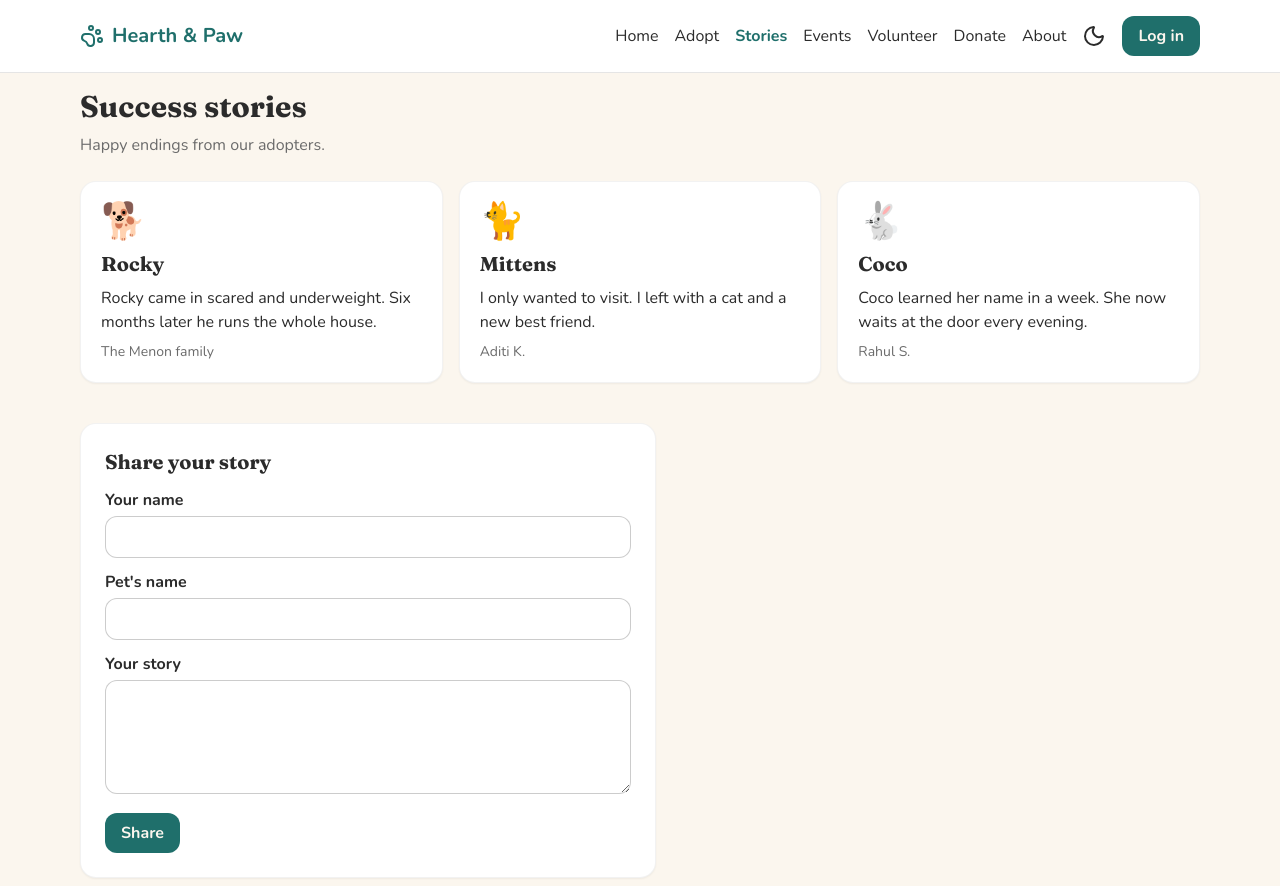
Test: story form validates
Click the button "Share". click: (142, 833)
box: x1=105 y1=813 x2=180 y2=853
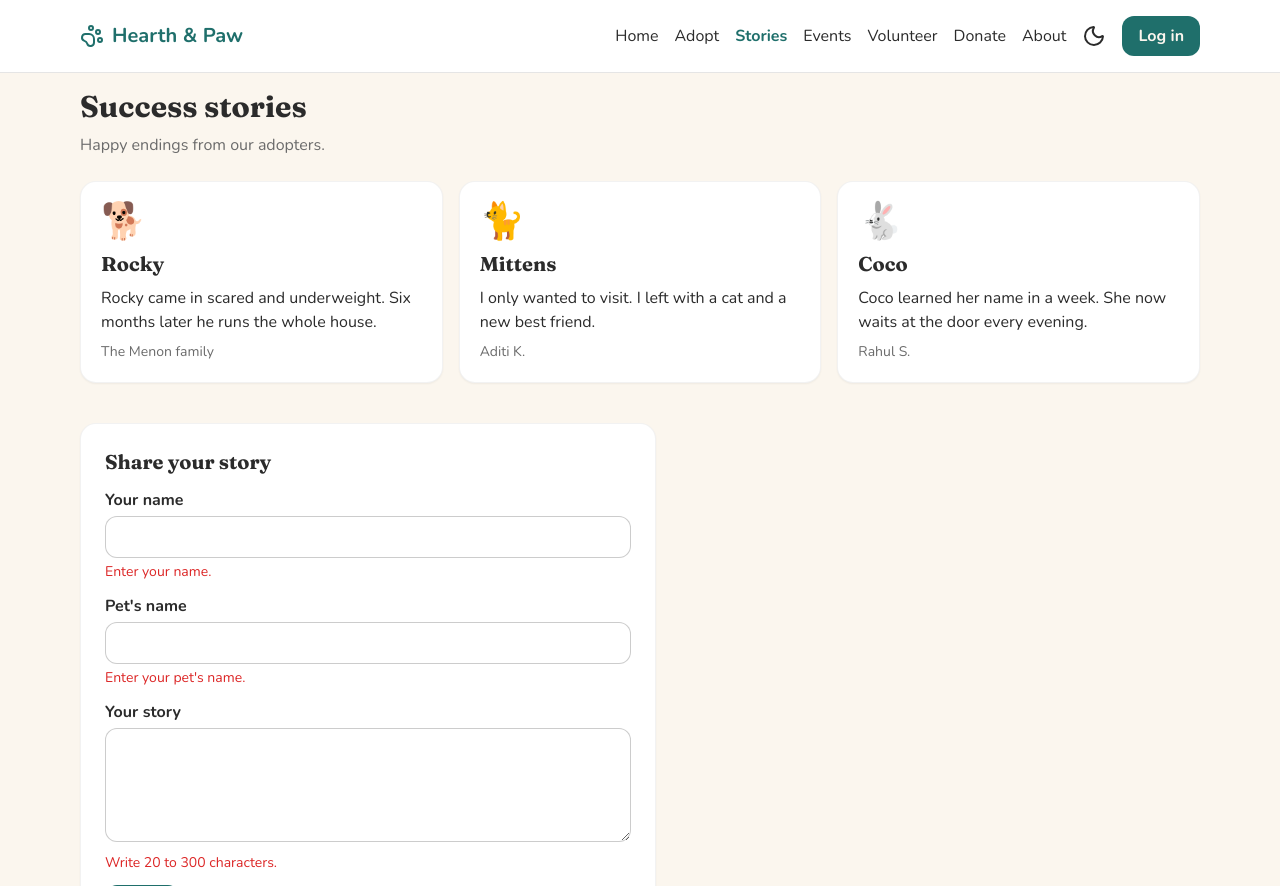
expect the number of messages is 3: met, box x1=105 y1=562 x2=211 y2=581; x1=105 y1=668 x2=245 y2=687; x1=105 y1=853 x2=277 y2=872
